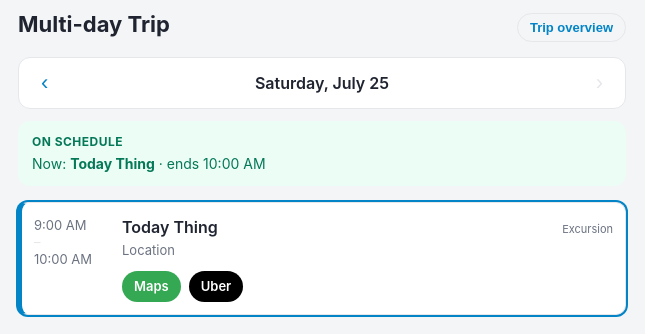
Scenario: App › hides the status banner and forces the future state on a non-today day
The width and height of the screenshot is (645, 334).
Check: the text "On schedule" is shown, box [32, 134, 123, 149]
Click the button named "Previous day". click: [45, 83]
box: [31, 66, 58, 100]
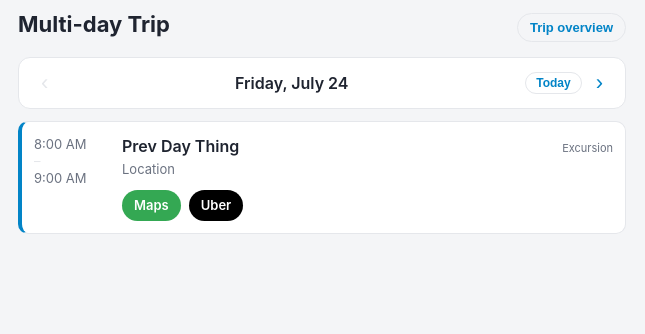
Check: the text "On schedule" is gone
